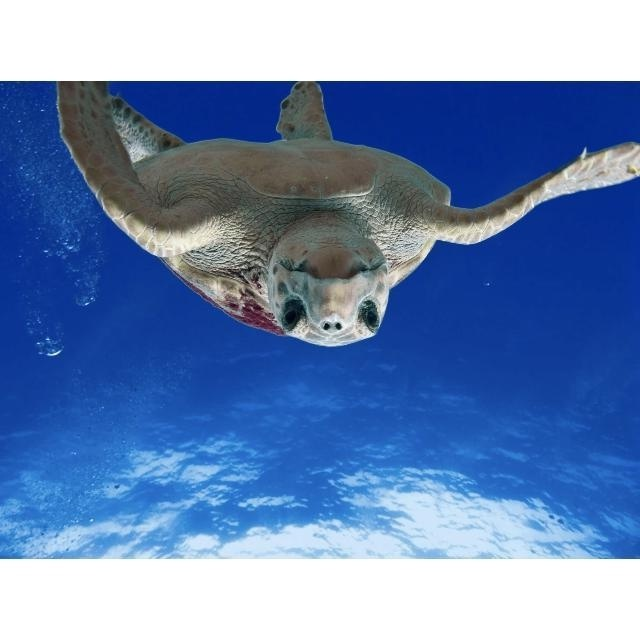turtle: (57, 83, 638, 348)
